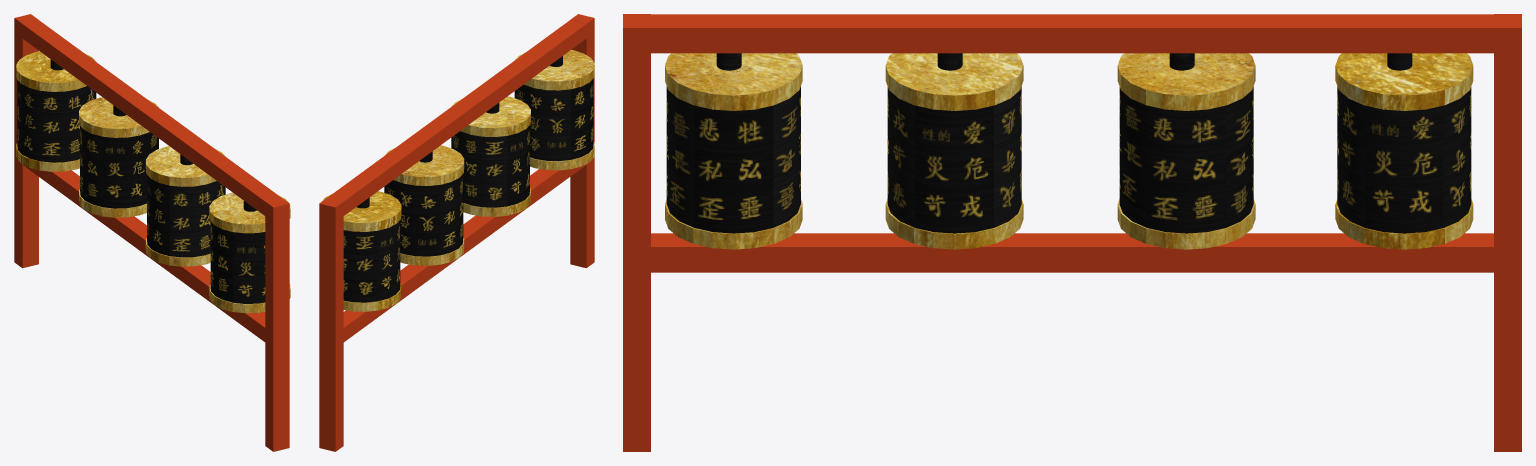
Rendered from prayerwheel.fbx.
3 renders of one model, left to right at view 1: azimuth 30°, elevation 25°; view 2: azimuth 150°, elevation 25°; view 3: azimuth 270°, elevation 25°, orthographic. The views are drawn at different scales.
Visible parts, largest first — view 1: pCube5; view 2: pCube5; view 3: pCube5.
Part boxes in pixels (bbox=[...]): pCube5: bbox=[14, 14, 290, 451]; pCube5: bbox=[319, 14, 594, 451]; pCube5: bbox=[623, 14, 1521, 451].
Size of the model in its own units: 10.09 by 33.01 by 63.41.
Materials: 1 (1 with a texture image).
